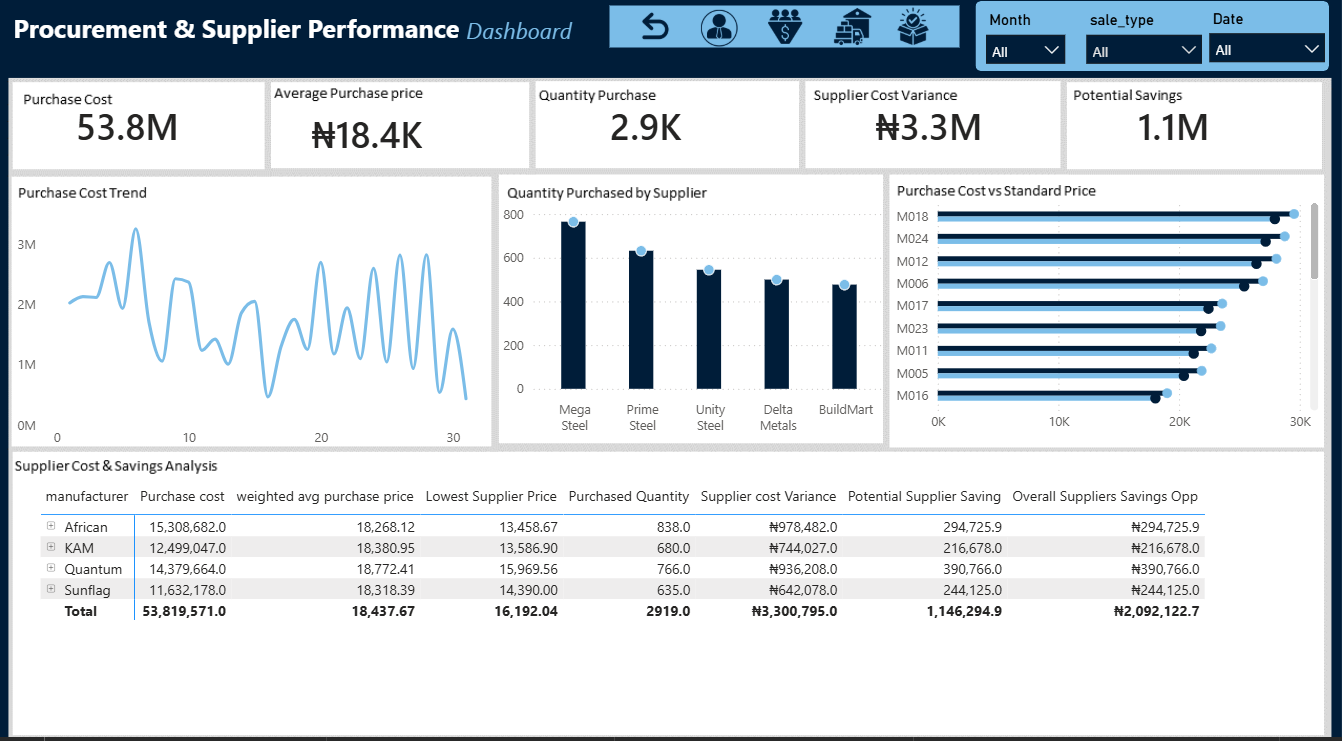

The dashboard page shown, as its layout file describes it:
{"tool":"powerbi","page":{"name":"Procurement & Supplier Performance","canvas":[1280,720],"ordinal":3},"visuals":[{"type":"shape","box":[930,3.3,336.7,66.7],"z":0},{"type":"cardVisual","fields":{"Data":["Measure.Total purchase cost"]},"box":[44.3,78.6,168.6,82.9],"z":1000},{"type":"cardVisual","fields":{"Data":["Measure.Avg purchase price"]},"box":[268.6,87.1,172.9,81.4],"z":2000},{"type":"cardVisual","fields":{"Data":["Measure.Inventory purchased"]},"box":[552.9,78.6,144.8,83],"z":3000},{"type":"cardVisual","fields":{"Data":["Measure.Supplier cost Variance"]},"box":[805.7,78.6,170.8,83],"z":4000},{"type":"clusteredBarChart","fields":{"Y":["Measure.weighted avg purchase price","Measure.Weighted avg standard cost"],"Category":["materials_corrected.material_id"]},"box":[845.7,181.4,415.7,240],"z":5000},{"type":"lineChart","fields":{"Category":["Date.Date.Variation.Date Hierarchy.Month","Date.Date.Variation.Date Hierarchy.Day"],"Y":["Measure.Total purchase cost"]},"box":[11.7,191.7,498.3,245],"z":6000},{"type":"columnChart","fields":{"Category":["suppliers.supplier_name"],"Y":["Measure.Inventory purchased"]},"box":[474.3,191.4,375.7,231.4],"z":7000},{"type":"textbox","box":[8.1,4.9,491.2,76.4],"z":8000},{"type":"textbox","box":[440,10,156.7,68.3],"z":9000},{"type":"shape","box":[581.7,6.7,333.3,40],"z":10000},{"type":"slicer","fields":{"Values":["sales_update.sale_type"]},"box":[1025,6.7,130,66.7],"z":11000},{"type":"slicer","fields":{"Values":["Date.Date"]},"box":[1143.3,5,130,55],"z":12000},{"type":"image","box":[648.2,10,74.8,37.4],"z":13000},{"type":"image","box":[711.7,8.3,74.8,37.4],"z":14000},{"type":"image","box":[775.1,8.3,74.8,37.4],"z":15000},{"type":"image","box":[833.3,8.3,75,36.7],"z":16000},{"type":"image","box":[583.2,8.3,84.6,35.8],"z":17000},{"type":"slicer","fields":{"Values":["Date.Month Number"]},"box":[930,6.7,95,55],"z":18000},{"type":"cardVisual","fields":{"Data":["Measure.Potential Supplier Saving 2"]},"box":[1055,78.3,205,83.3],"z":19000},{"type":"pivotTable","fields":{"Rows":["suppliers.supplier_name","materials_corrected.size","materials_corrected.material_id"],"Values":["Measure.Total purchase cost","Measure.weighted avg purchase price","Measure.Weighted avg standard cost","Measure.lowest supplier price","Measure.Purchased Quantity","Measure.Supplier cost Variance","Measure.Potential Supplier Saving"]},"box":[55.7,455.7,1155.7,252.9],"z":20000}]}

Visuals, with their boxes in screenshot pixels (x1, y1, x2, y2), scaled from the page's 1280x720 canvas onto the 1342x741 screenshot:
shape: 975/3/1328/72
cardVisual - Measure.Total purchase cost: 46/81/223/166
cardVisual - Measure.Avg purchase price: 282/90/463/173
cardVisual - Measure.Inventory purchased: 580/81/731/166
cardVisual - Measure.Supplier cost Variance: 845/81/1024/166
clusteredBarChart - Measure.weighted avg purchase price x Measure.Weighted avg standard cost: 887/187/1322/434
lineChart - Date.Date.Variation.Date Hierarchy.Month x Date.Date.Variation.Date Hierarchy.Day: 12/197/535/449
columnChart - suppliers.supplier_name x Measure.Inventory purchased: 497/197/891/435
textbox: 8/5/523/84
textbox: 461/10/626/81
shape: 610/7/959/48
slicer - sales_update.sale_type: 1075/7/1211/76
slicer - Date.Date: 1199/5/1335/62
image: 680/10/758/49
image: 746/9/825/47
image: 813/9/891/47
image: 874/9/952/46
image: 611/9/700/45
slicer - Date.Month Number: 975/7/1075/63
cardVisual - Measure.Potential Supplier Saving 2: 1106/81/1321/166
pivotTable - suppliers.supplier_name x materials_corrected.size: 58/469/1270/729
